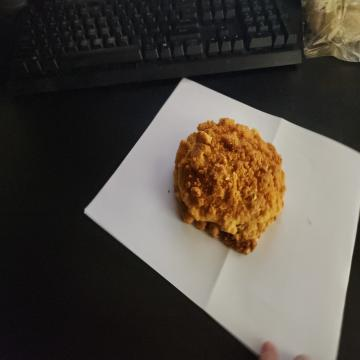soboru_bread: (172, 117, 282, 255)
